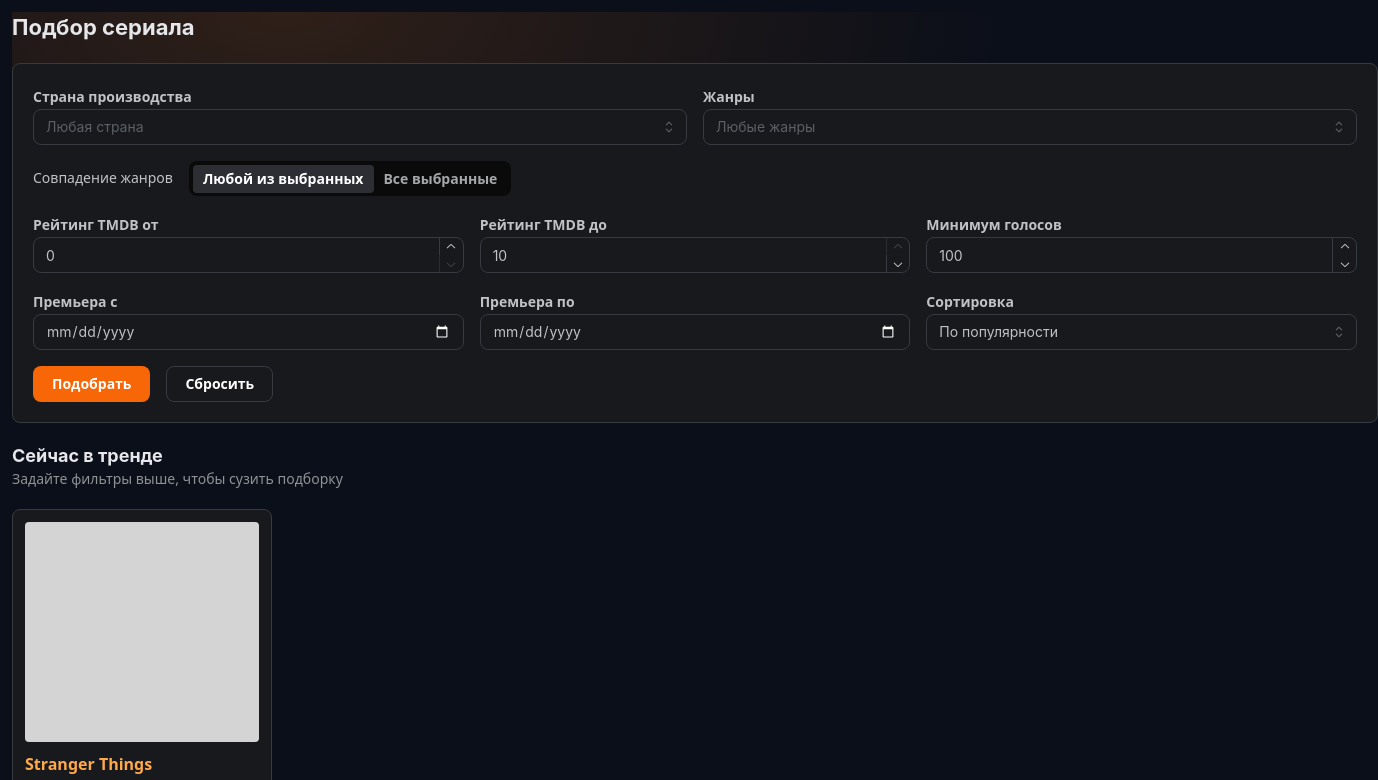
DiscoverPage › shows an empty result state
Click the button "Подобрать".
click(92, 384)  # box [33,366,150,402]
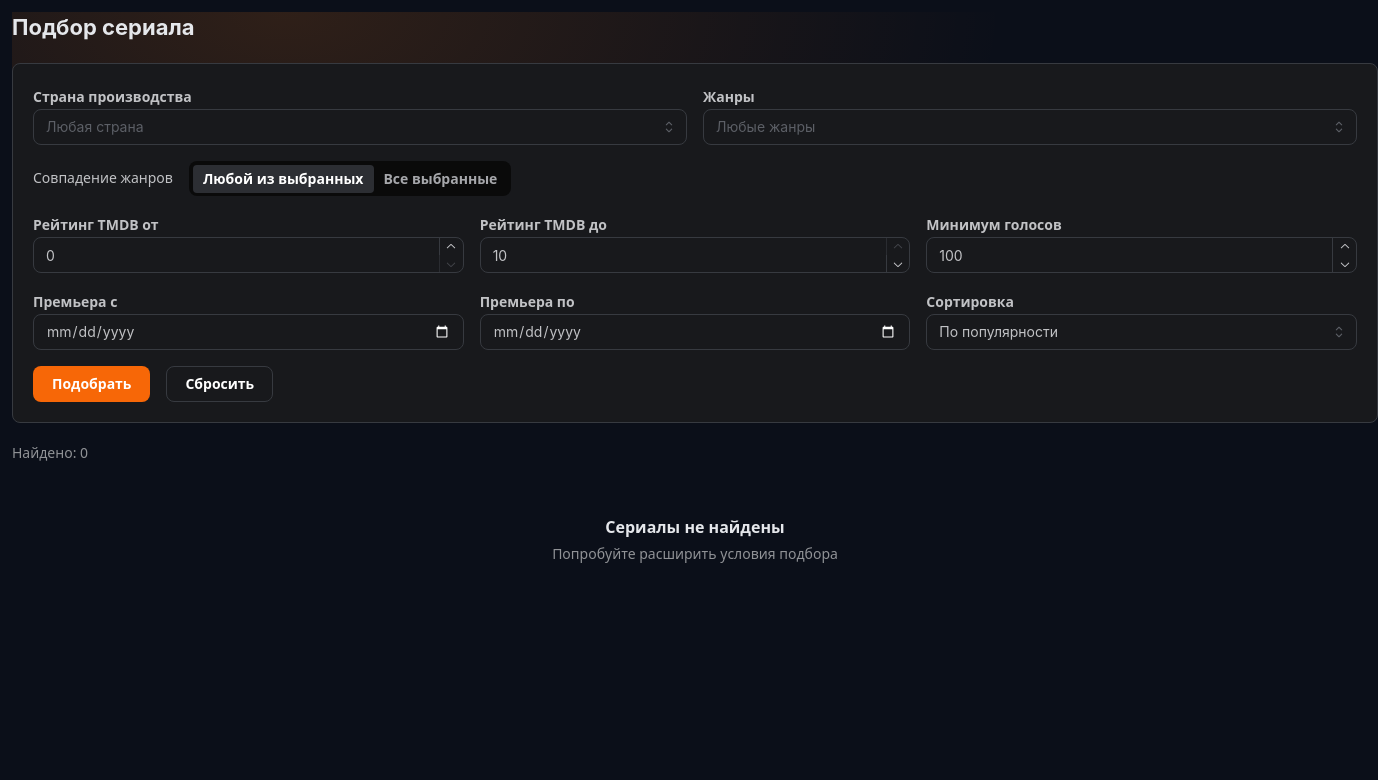
Expected: the text "Сериалы не найдены" is shown, [605,515,785,540]
